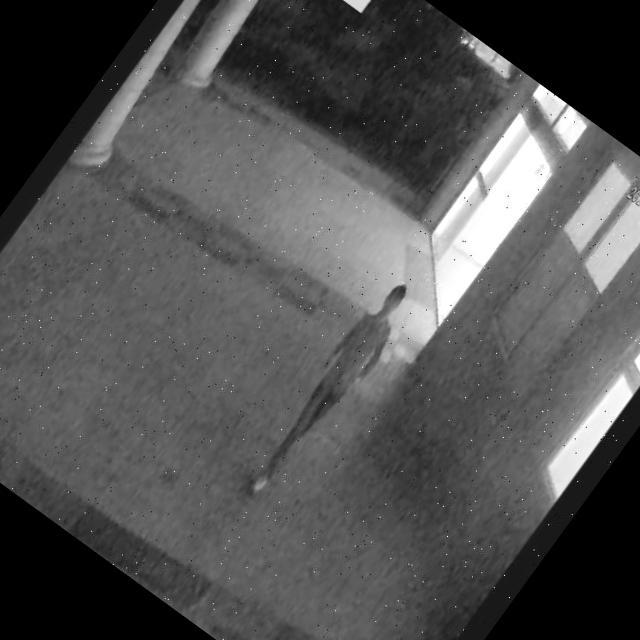person: (228, 268, 430, 520)
